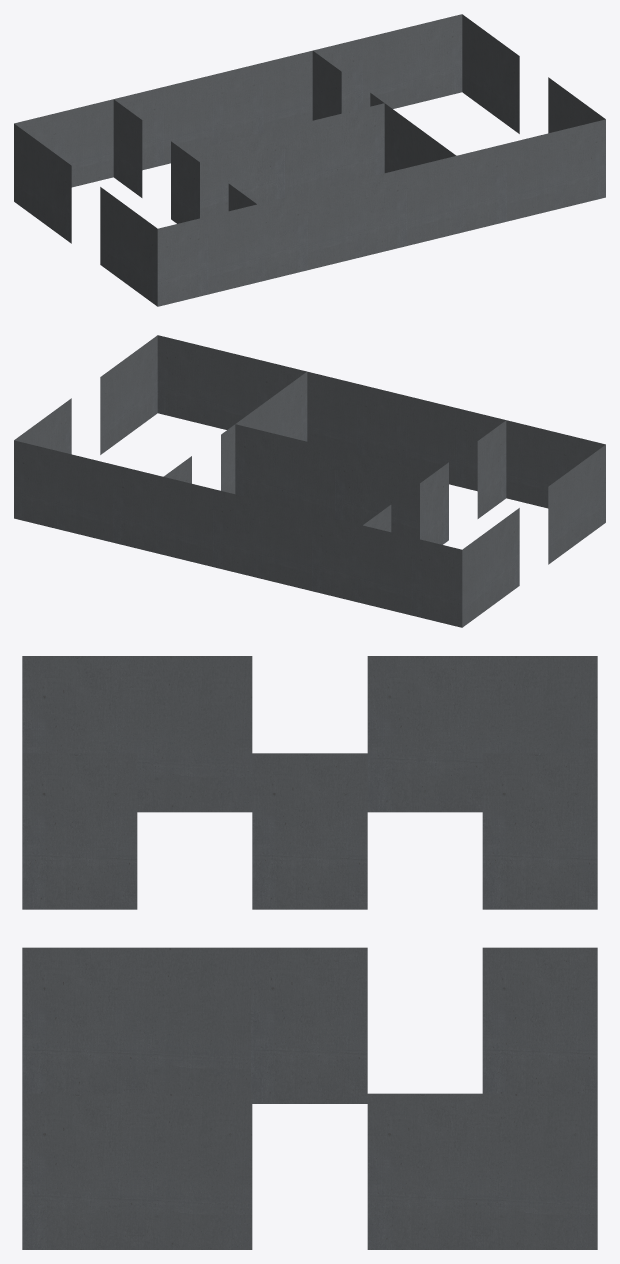
File: Stage3.obj
The picture shows the model from 3 angles, top to bottom: view 1: azimuth 30°, elevation 25°; view 2: azimuth 150°, elevation 25°; view 3: azimuth 270°, elevation 25°; orthographic projection. The views are drawn at different scales.
Visible parts, largest first — view 1: Cube.002, Cube.011, Cube.012, Cube.003, Cube.004, Cube.006, Cube.010, Cube.005, Cube.008, Cube.009, Cube.001, Cube.007; view 2: Cube.011, Cube.002, Cube.012, Cube.001, Cube.004, Cube.006, Cube.010, Cube.007, Cube.008, Cube.003, Cube.005, Cube.009; view 3: Cube.010, Cube.001, Cube.003, Cube.004, Cube.006, Cube.005, Cube.007, Cube.008, Cube.009.
Boxes of the visible parts, <box> form: Cube.002: <box>157,119,605,306</box>; Cube.011: <box>14,14,462,187</box>; Cube.012: <box>186,103,384,218</box>; Cube.003: <box>462,14,519,133</box>; Cube.004: <box>14,124,71,243</box>; Cube.006: <box>100,187,157,306</box>; Cube.010: <box>370,93,456,172</box>; Cube.005: <box>113,99,142,197</box>; Cube.008: <box>171,141,199,223</box>; Cube.009: <box>312,51,341,120</box>; Cube.001: <box>548,77,605,133</box>; Cube.007: <box>228,184,256,211</box>; Cube.011: <box>14,440,462,627</box>; Cube.002: <box>157,335,605,508</box>; Cube.012: <box>235,424,433,539</box>; Cube.001: <box>100,335,157,454</box>; Cube.004: <box>462,508,519,627</box>; Cube.006: <box>548,445,605,564</box>; Cube.010: <box>221,372,307,493</box>; Cube.007: <box>477,420,506,518</box>; Cube.008: <box>420,462,448,544</box>; Cube.003: <box>14,398,71,454</box>; Cube.005: <box>363,505,391,532</box>; Cube.009: <box>163,456,191,483</box>; Cube.010: <box>22,947,367,1103</box>; Cube.001: <box>22,1093,252,1249</box>; Cube.003: <box>367,1093,597,1249</box>; Cube.004: <box>367,656,597,812</box>; Cube.006: <box>22,656,252,812</box>; Cube.005: <box>482,753,597,909</box>; Cube.007: <box>22,753,137,909</box>; Cube.008: <box>252,753,367,909</box>; Cube.009: <box>482,947,597,1093</box>.
Size of the model in its own units: 36 by 6 by 20.
12 materials, 12 textured.
